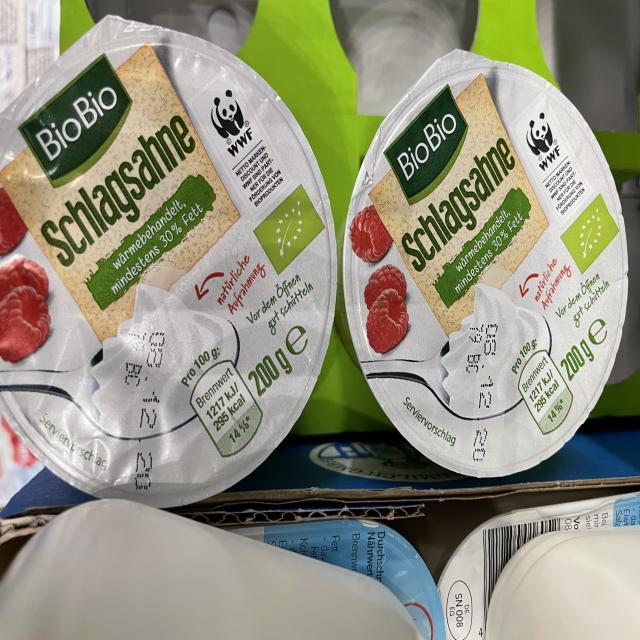cream: (0, 15, 336, 507), (344, 49, 629, 477)
